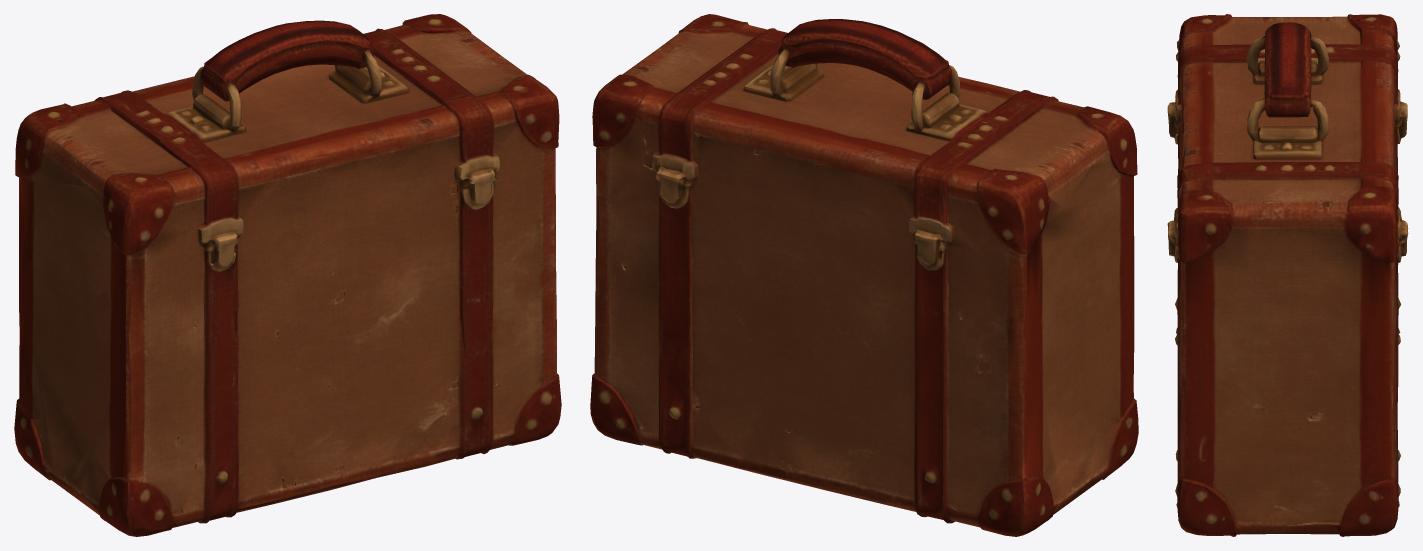
The model's file is luggage.glb.
The picture shows the model from 3 angles, left to right: view 1: azimuth 30°, elevation 25°; view 2: azimuth 150°, elevation 25°; view 3: azimuth 270°, elevation 25°; orthographic projection. The views are drawn at different scales.
Parts seen in each view (by area): view 1: world; view 2: world; view 3: world.
Part boxes in pixels (bbox=[...]): world: bbox=[14, 14, 561, 536]; world: bbox=[590, 14, 1138, 536]; world: bbox=[1167, 14, 1408, 536].
Bounding box in the file's own units: 1.01 × 0.9358 × 0.5015.
Materials: 1 (1 with a texture image).
